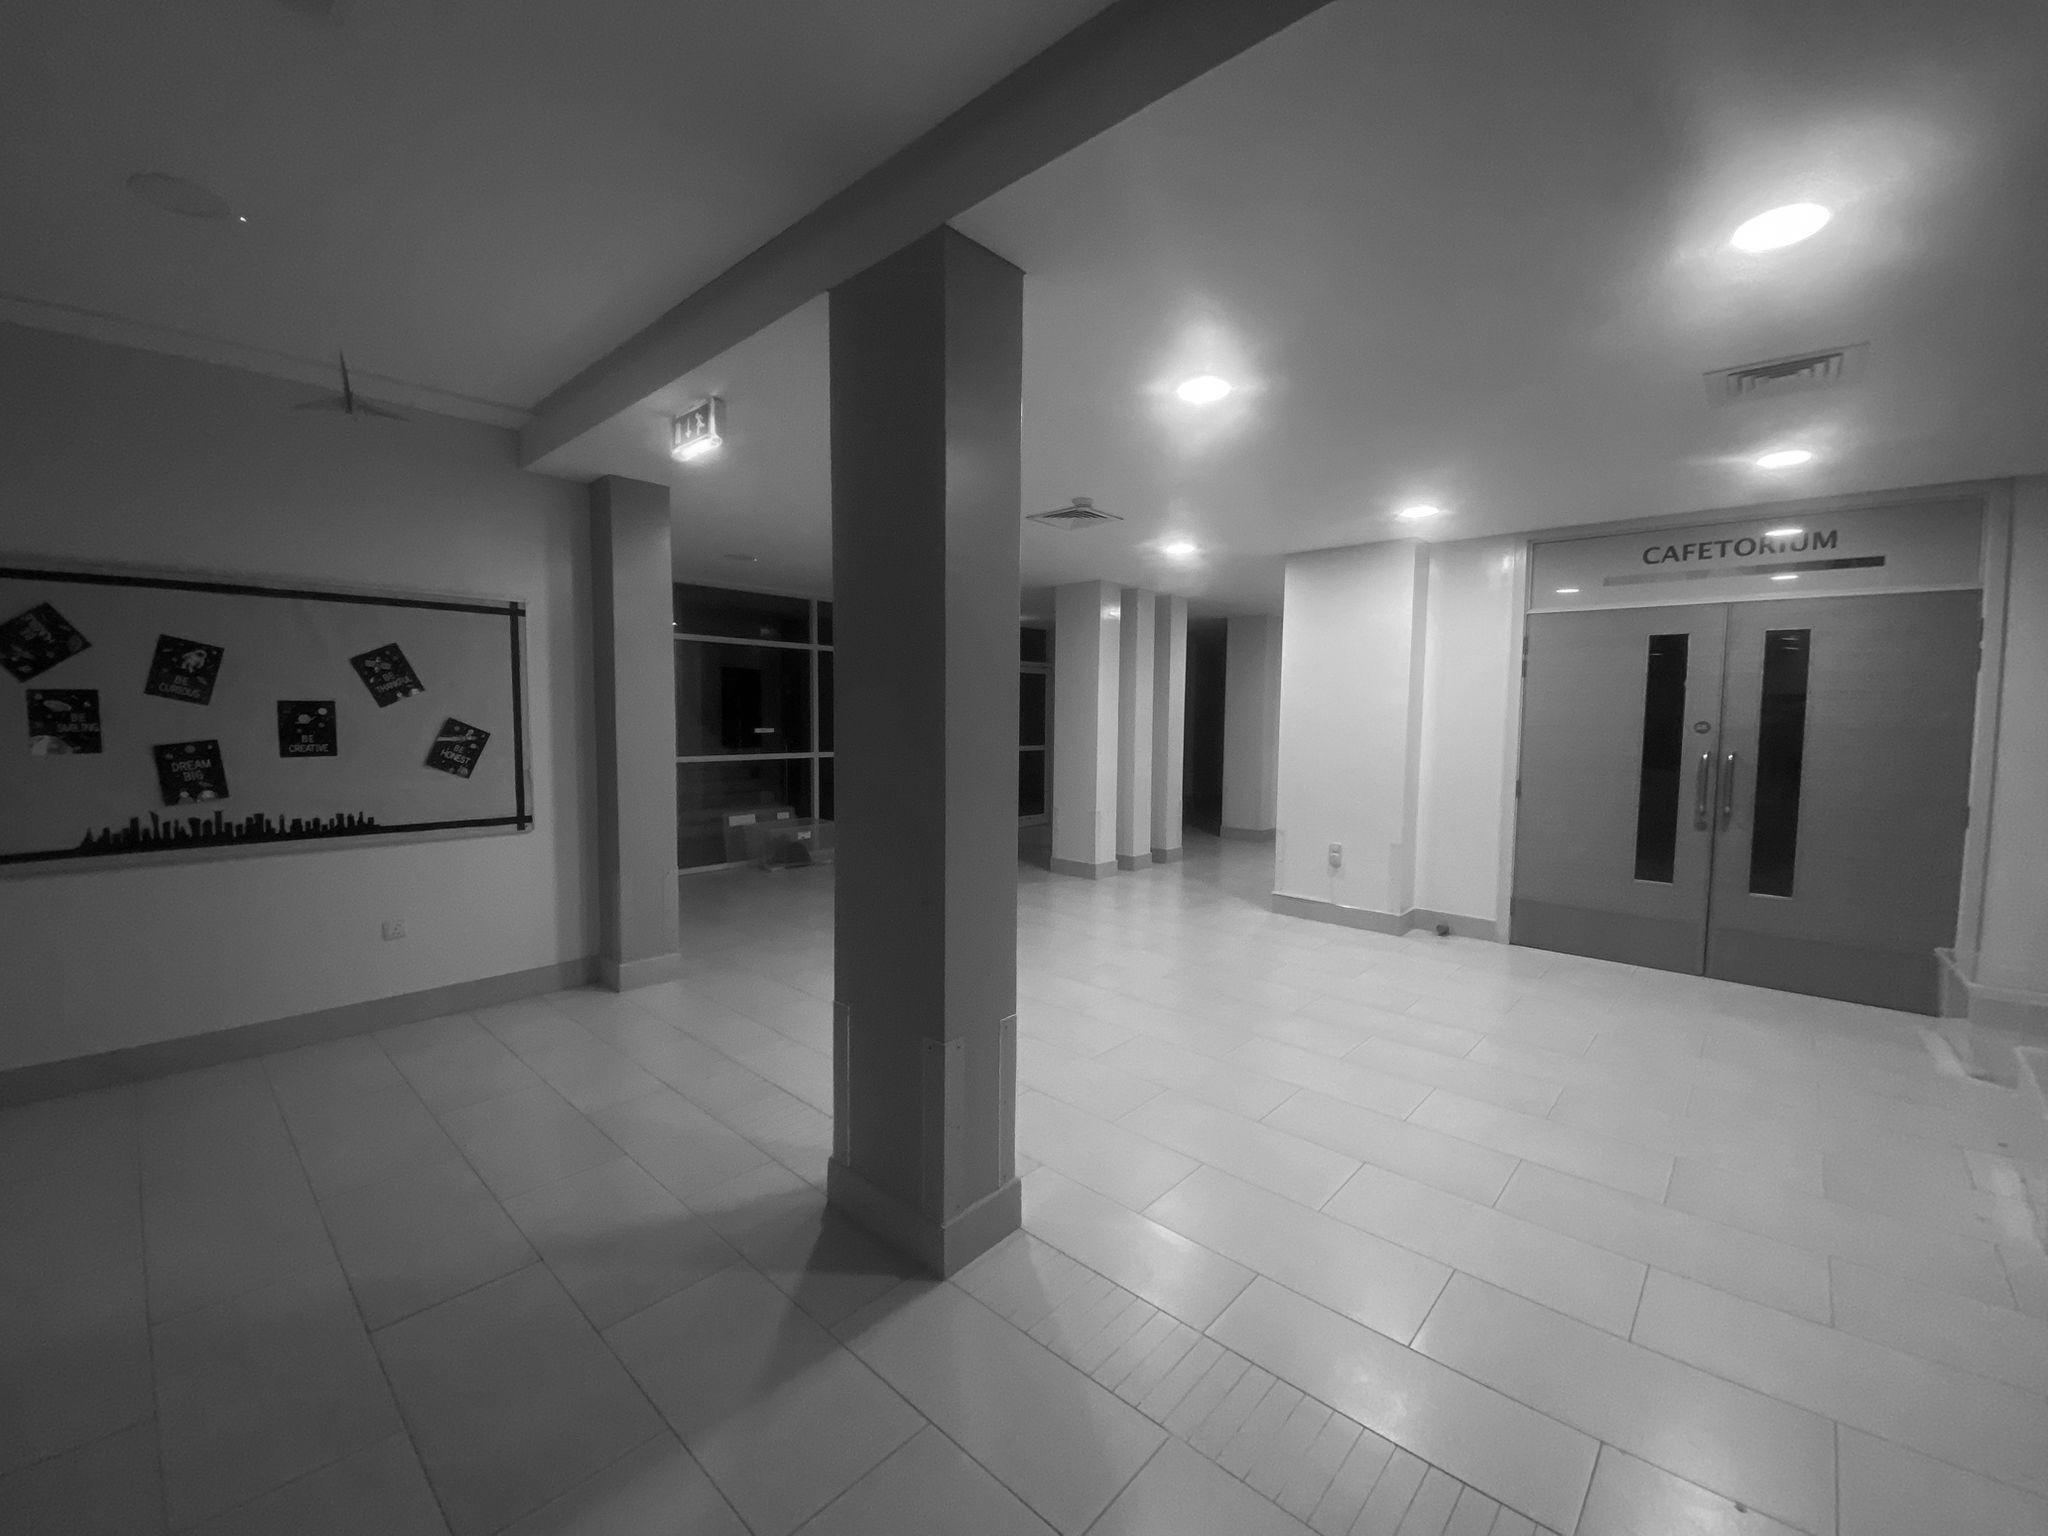Pillar: (827, 226, 1022, 1275), (590, 476, 679, 978), (1051, 582, 1201, 878), (1218, 615, 1279, 837)
Wall: (0, 324, 600, 1066), (1276, 541, 1521, 934)
